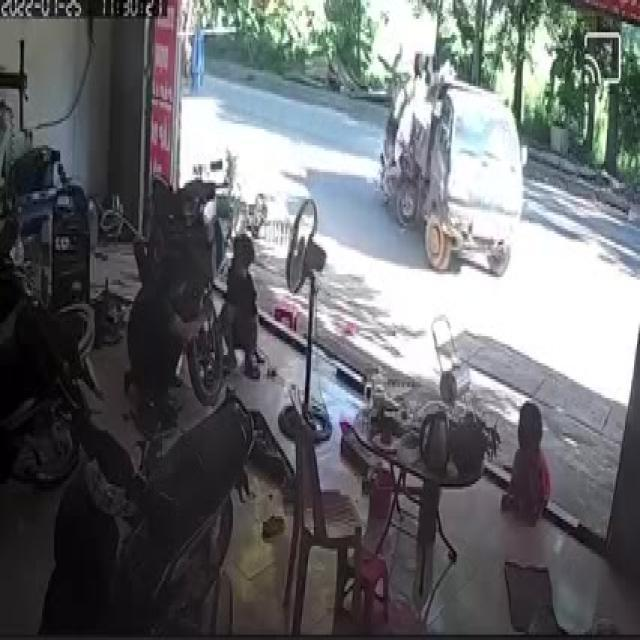multiple_accident: (379, 63, 521, 284)
